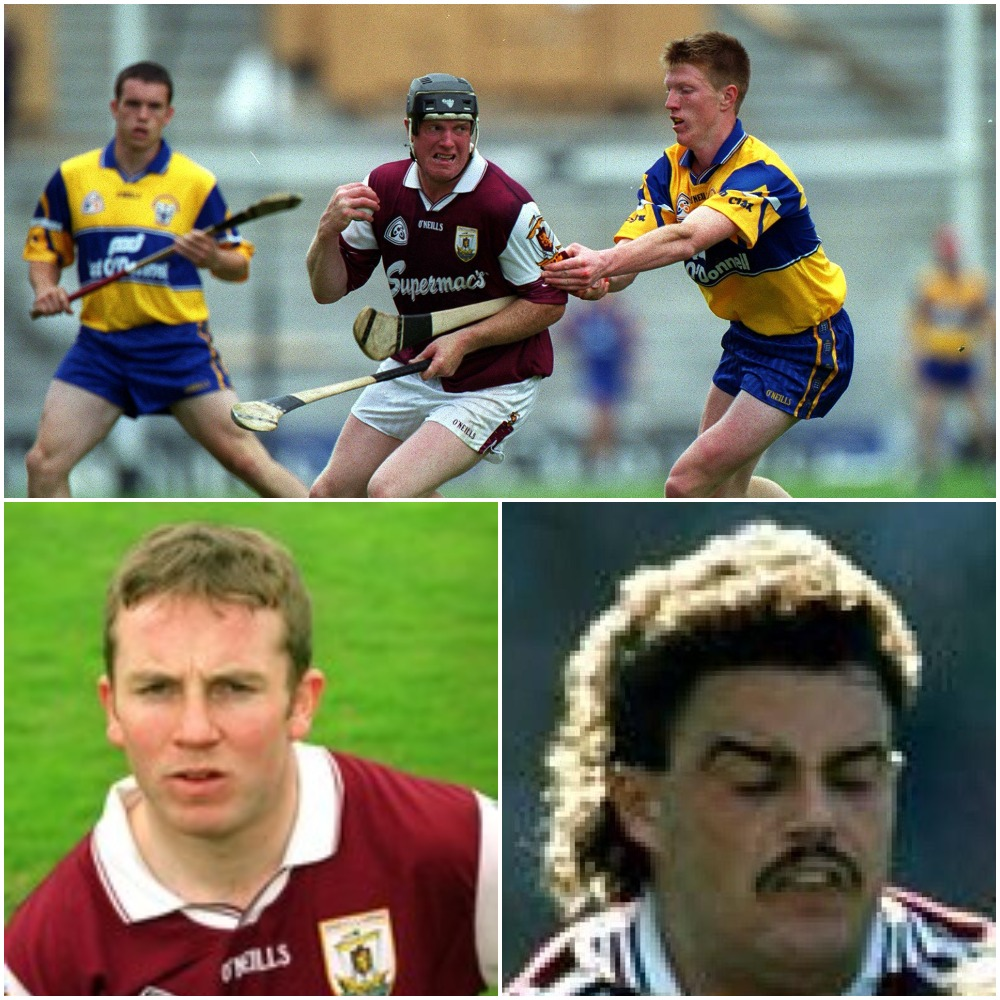player: (39, 561, 411, 962), (573, 533, 911, 946), (642, 27, 870, 453), (317, 74, 546, 482), (34, 70, 272, 444)
